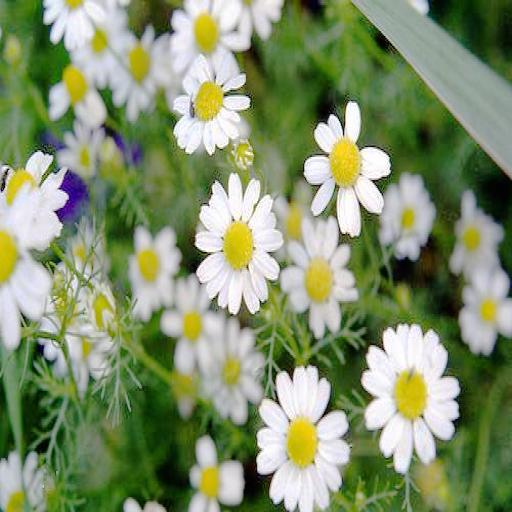daisy: (262, 369, 347, 512), (370, 324, 454, 468), (311, 103, 388, 229), (202, 180, 278, 301), (205, 321, 260, 417), (174, 2, 246, 74), (172, 80, 249, 147), (115, 28, 174, 113), (184, 437, 245, 512), (167, 281, 218, 370), (132, 228, 177, 308)
